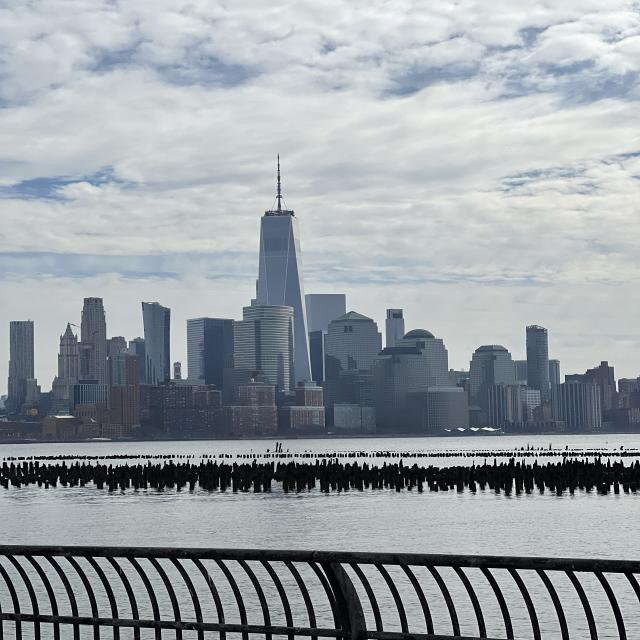WTC: (257, 154, 306, 305)
